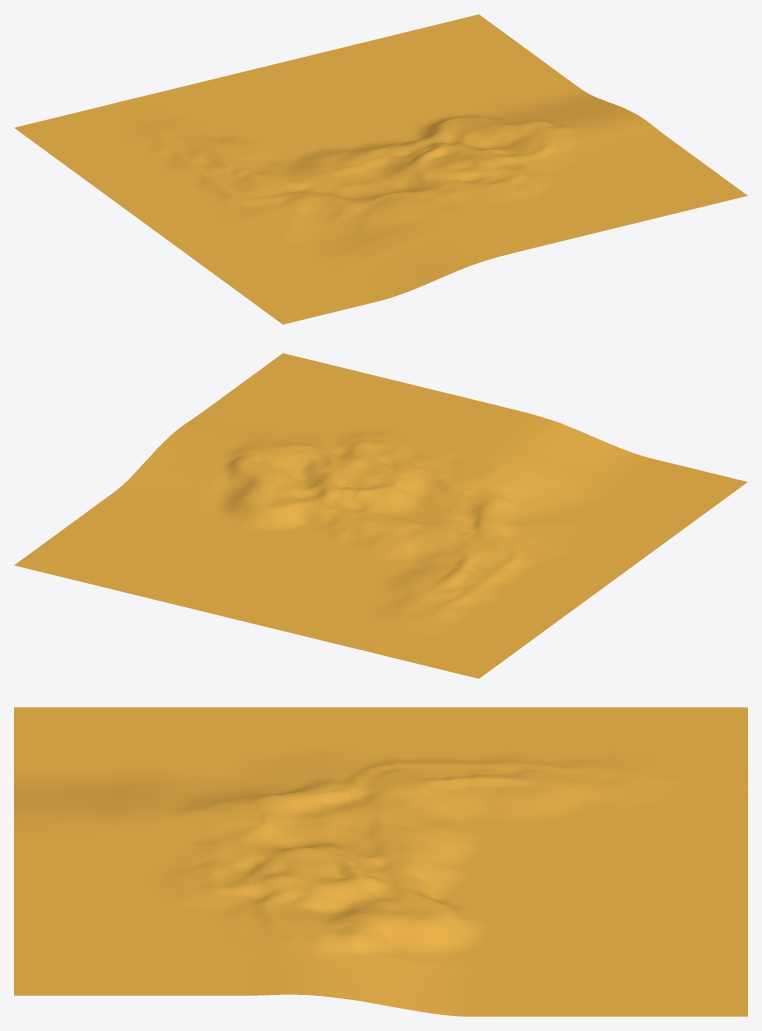
File: Sand.fbx
The picture shows the model from 3 angles, top to bottom: view 1: azimuth 30°, elevation 25°; view 2: azimuth 150°, elevation 25°; view 3: azimuth 270°, elevation 25°; orthographic projection. The views are drawn at different scales.
Parts seen in each view (by area): view 1: Sand; view 2: Sand; view 3: Sand.
Boxes of the visible parts, box(x1,y1,x2,y2) form: Sand: box(14, 14, 747, 324); Sand: box(14, 353, 747, 678); Sand: box(14, 707, 747, 1016).
Bounding box in the file's own units: 126713 × 5288 × 126949.
